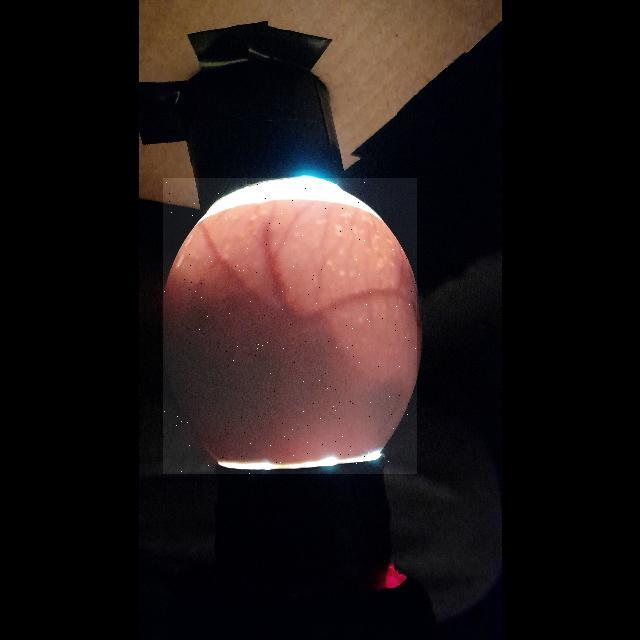Fertile: (163, 178, 417, 474)
